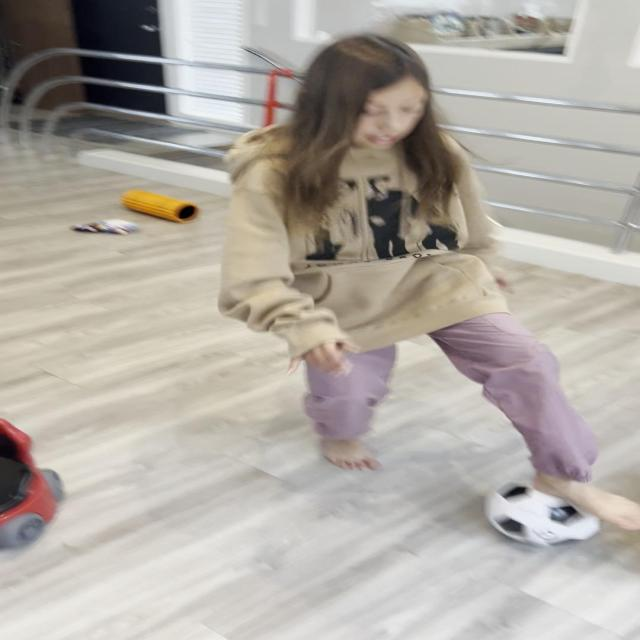Soccer Ball: (486, 477, 600, 544)
